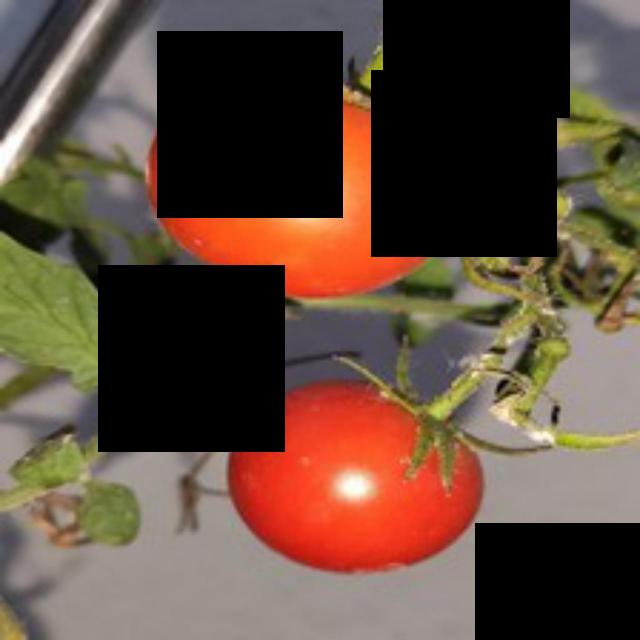tomato: (140, 69, 472, 314), (230, 387, 498, 579)
